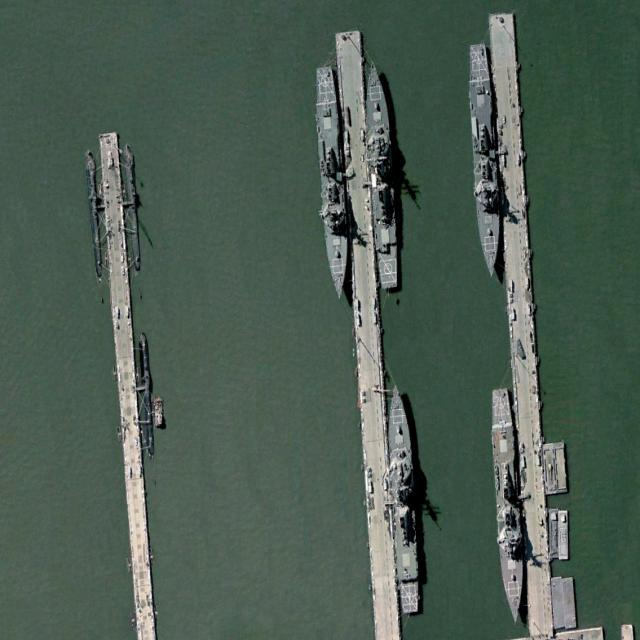Destroyer: (383, 379, 429, 617), (488, 386, 528, 627), (312, 64, 352, 302), (465, 40, 504, 280), (363, 58, 401, 289)
Submarine: (121, 141, 143, 273), (85, 145, 105, 285), (137, 332, 157, 460)
